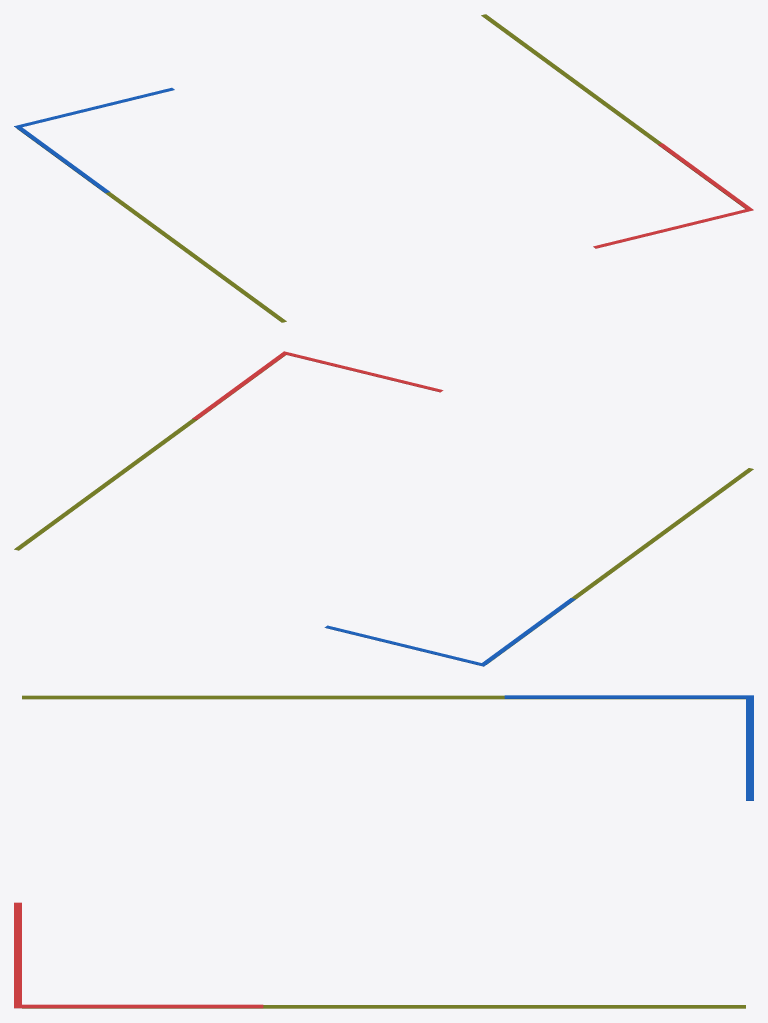
The picture shows the model from 3 angles, top to bottom: view 1: azimuth 30°, elevation 25°; view 2: azimuth 150°, elevation 25°; view 3: azimuth 270°, elevation 25°; orthographic projection. The views are drawn at different scales.
Bounding box in the file's own units: 93.44 × 0.1 × 93.44.
Materials: 3 (3 with a texture image).
